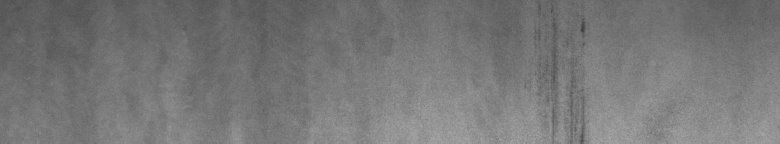ka: (533, 4, 589, 136)
